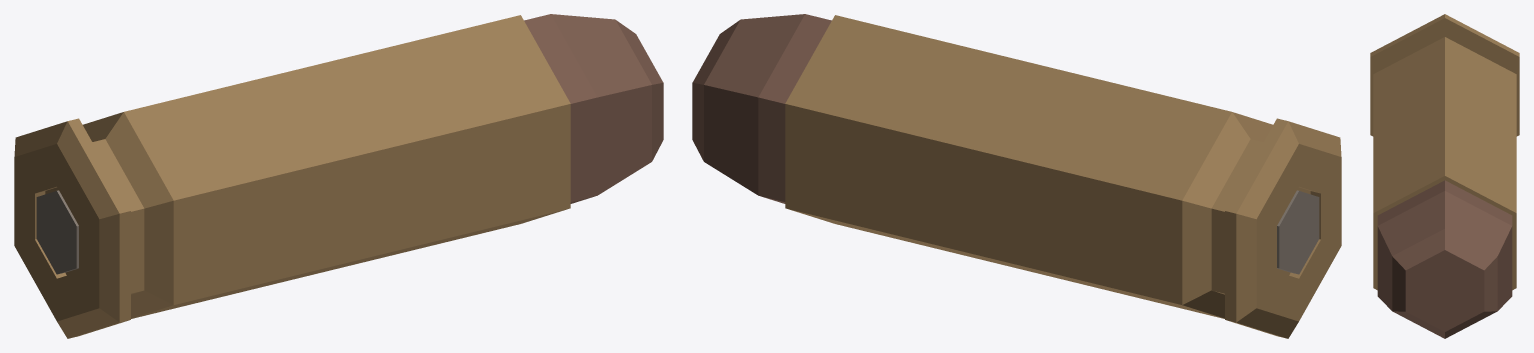
File: bullet.fbx
3 views of the same model, side by side, from view 1: azimuth 30°, elevation 25°; view 2: azimuth 150°, elevation 25°; view 3: azimuth 270°, elevation 25° (orthographic). The views are drawn at different scales.
Parts seen in each view (by area): view 1: Cylinder.011; view 2: Cylinder.011; view 3: Cylinder.011.
Boxes of the visible parts, x1,y1,x2,y2 form: Cylinder.011: [14, 14, 663, 338]; Cylinder.011: [692, 14, 1341, 338]; Cylinder.011: [1370, 14, 1519, 338].
Bounding box in the file's own units: 40.24 × 14.45 × 12.52.
